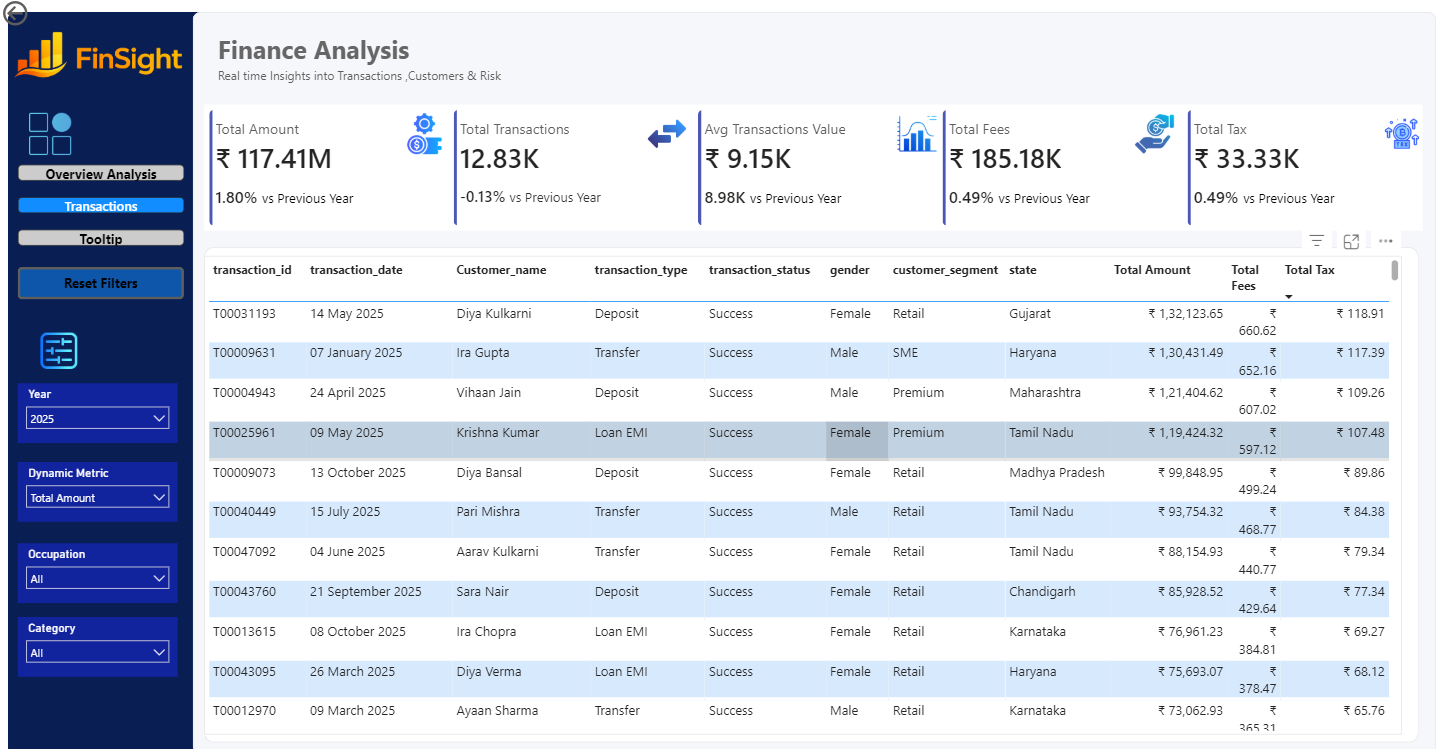

This screenshot's page, from the dashboard's own definition file:
{"tool":"powerbi","page":{"name":"Transactions","canvas":[1800,950],"ordinal":1},"visuals":[{"type":"shape","box":[10,18.3,280,913.3],"z":0},{"type":"shape","box":[238.3,18.3,1530,913.3],"z":1000},{"type":"image","box":[10,18.3,228.3,106.7],"z":2000},{"type":"cardVisual","fields":{"Data":["finance_transactions.Dashboard_Title"]},"box":[251.7,18.3,396.7,113.3],"z":3000},{"type":"image","box":[36.7,136.7,51.7,63.3],"z":4000},{"type":"cardVisual","fields":{"Data":["finance_transactions.Total Amount","finance_transactions.Total Transactions","finance_transactions.Avg Transactions Value","finance_transactions.Total Fees","finance_transactions.Total Tax"]},"box":[251.7,131.7,1500,155],"z":5000},{"type":"image","box":[498.3,143.3,50,50],"z":6000},{"type":"image","box":[796.7,143.3,50,50],"z":7000},{"type":"image","box":[1105,143.3,50,50],"z":8000},{"type":"image","box":[1396.7,143.3,50,50],"z":9000},{"type":"image","box":[1701.7,143.3,50,50],"z":10000},{"type":"shape","box":[251.7,308.3,1495,610],"z":12000},{"type":"tableEx","fields":{"Values":["finance_transactions.transaction_id","finance_transactions.transaction_date","customers.Customer_name","finance_transactions.transaction_type","finance_transactions.transaction_status","customers.gender","customers.customer_segment","customers.state","finance_transactions.Total Amount","finance_transactions.Total Fees","finance_transactions.Total Tax"]},"box":[251.7,318.3,1475,590],"z":13000},{"type":"actionButton","box":[0,0,100,40],"z":14000},{"type":"slicer","fields":{"Values":["Calendar Table.Year"]},"box":[23.3,475,196.7,73.3],"z":15000},{"type":"slicer","fields":{"Values":["Dynamic Metric.Dynamic Metric"]},"box":[23.3,571.7,196.7,73.3],"z":16000},{"type":"slicer","fields":{"Values":["customers.occupation"]},"box":[23.3,671.7,196.7,73.3],"z":17000},{"type":"slicer","fields":{"Values":["finance_transactions.merchant_category"]},"box":[23.3,763.3,196.7,73.3],"z":18000},{"type":"pageNavigator","box":[23.3,206.7,205,101.7],"z":19000},{"type":"image","box":[48.3,395,51.7,80],"z":20000},{"type":"actionButton","box":[23.5,332.4,204.4,39.7],"z":20001}]}

Visuals, with their boxes on the page's 1800x950 design canvas (x1, y1, x2, y2). These are canvas units, not pixel positions in the 1449x749 screenshot, which may show the page scaled, cropped or inside an application window:
shape: <box>10,18,290,932</box>
shape: <box>238,18,1768,932</box>
image: <box>10,18,238,125</box>
cardVisual - finance_transactions.Dashboard_Title: <box>252,18,648,132</box>
image: <box>37,137,88,200</box>
cardVisual - finance_transactions.Total Amount x finance_transactions.Total Transactions: <box>252,132,1752,287</box>
image: <box>498,143,548,193</box>
image: <box>797,143,847,193</box>
image: <box>1105,143,1155,193</box>
image: <box>1397,143,1447,193</box>
image: <box>1702,143,1752,193</box>
shape: <box>252,308,1747,918</box>
tableEx - finance_transactions.transaction_id x finance_transactions.transaction_date: <box>252,318,1727,908</box>
actionButton: <box>0,0,100,40</box>
slicer - Calendar Table.Year: <box>23,475,220,548</box>
slicer - Dynamic Metric.Dynamic Metric: <box>23,572,220,645</box>
slicer - customers.occupation: <box>23,672,220,745</box>
slicer - finance_transactions.merchant_category: <box>23,763,220,837</box>
pageNavigator: <box>23,207,228,308</box>
image: <box>48,395,100,475</box>
actionButton: <box>24,332,228,372</box>
